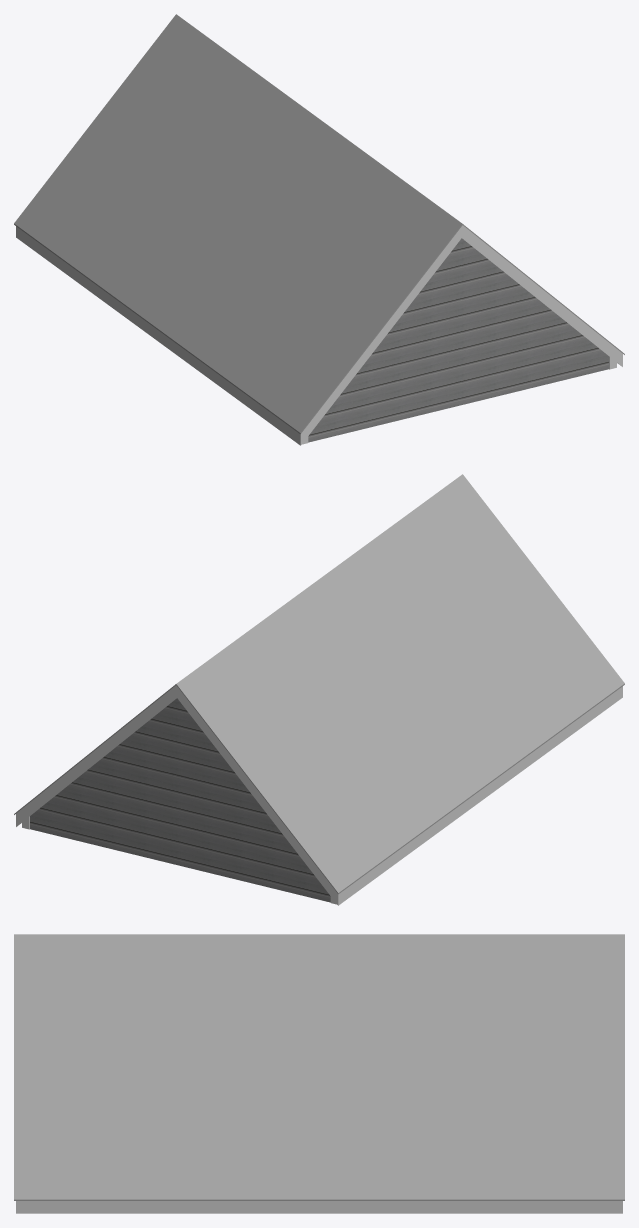
The model's file is gable.glb.
The picture shows the model from 3 angles, top to bottom: view 1: azimuth 30°, elevation 25°; view 2: azimuth 150°, elevation 25°; view 3: azimuth 270°, elevation 25°; orthographic projection. The views are drawn at different scales.
Visible parts, largest first — view 1: Roof_Top_2, Roof_exterior, Roof_Siding_2; view 2: Roof_Top_2, Roof_exterior, Roof_Siding_2; view 3: Roof_Top_2, Roof_Siding_2.
Part boxes in pixels (x1,y1,x2,y2): Roof_Top_2: [14, 14, 624, 434]; Roof_exterior: [308, 238, 608, 442]; Roof_Siding_2: [16, 225, 622, 445]; Roof_Top_2: [14, 474, 624, 894]; Roof_exterior: [30, 698, 330, 902]; Roof_Siding_2: [16, 685, 622, 905]; Roof_Top_2: [14, 934, 624, 1200]; Roof_Siding_2: [16, 1201, 622, 1213].
Bounding box in the file's own units: 5.06 × 2.76 × 7.75.
7 materials, 2 textured.
